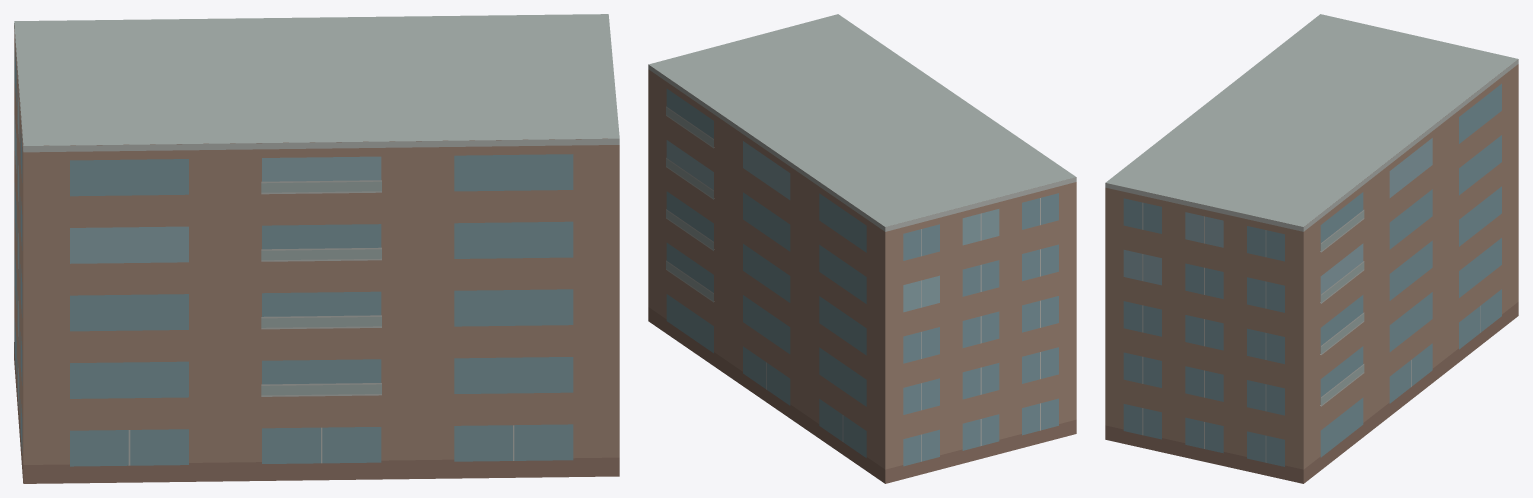
Rendered from survey-upis-32659039.glb.
3 views of the same model, side by side, from view 1: azimuth 30°, elevation 25°; view 2: azimuth 150°, elevation 25°; view 3: azimuth 270°, elevation 25° (orthographic). The views are drawn at different scales.
Visible parts, largest first — view 1: survey-upis-32659039.tmp; view 2: survey-upis-32659039.tmp; view 3: survey-upis-32659039.tmp.
Part boxes in pixels (bbox=[...]): survey-upis-32659039.tmp: bbox=[14, 14, 619, 483]; survey-upis-32659039.tmp: bbox=[648, 14, 1076, 483]; survey-upis-32659039.tmp: bbox=[1105, 14, 1518, 483].
Bounding box in the file's own units: 23.22 × 13.05 × 19.04.
